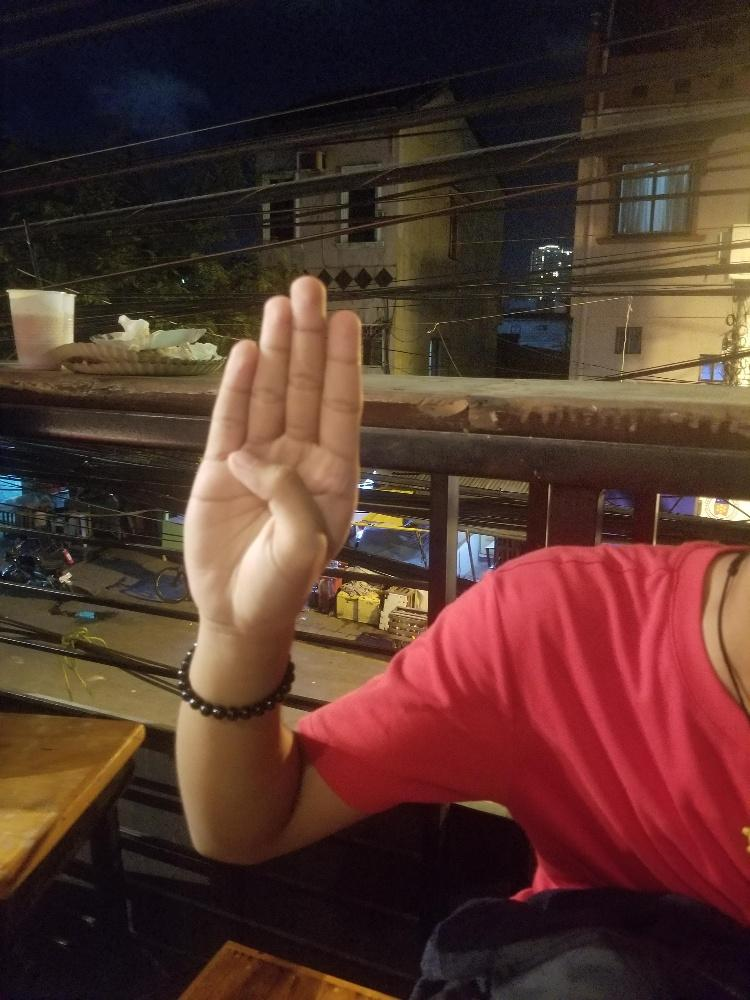b: (181, 273, 363, 619)
